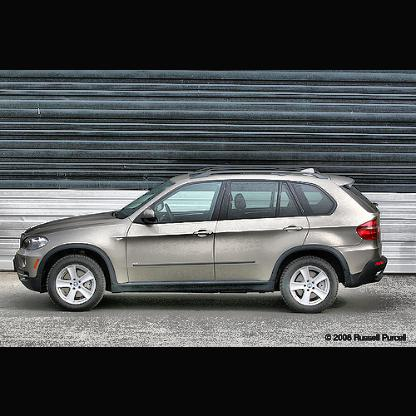BMW X5 SUV 2007: (9, 146, 400, 328)
